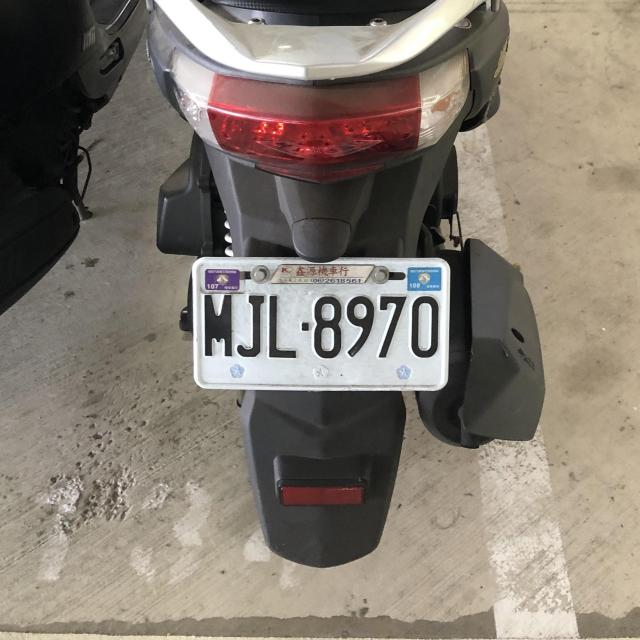W: (187, 254, 453, 396)
